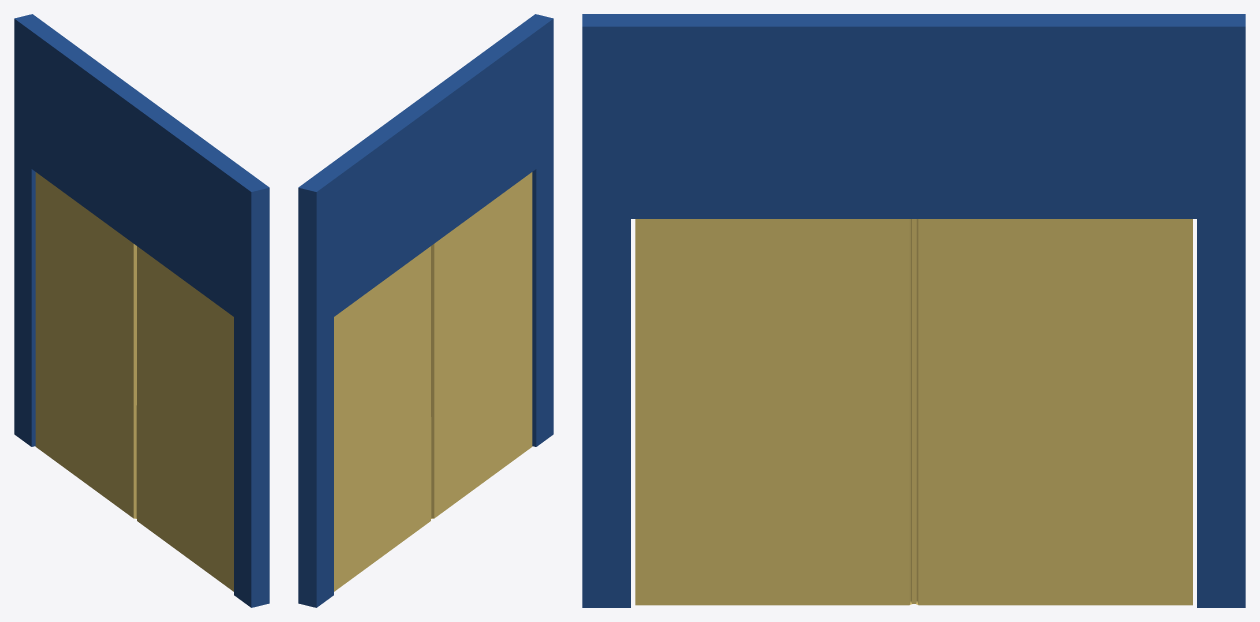
File: LiftDoor.fbx
3 views of the same model, side by side, from view 1: azimuth 30°, elevation 25°; view 2: azimuth 150°, elevation 25°; view 3: azimuth 270°, elevation 25° (orthographic). The views are drawn at different scales.
Visible parts, largest first — view 1: DoorFrame.002; view 2: DoorFrame.002; view 3: DoorFrame.002.
Boxes of the visible parts, left/top/right/bottom form: DoorFrame.002: left=14, top=14, right=269, bottom=607; DoorFrame.002: left=298, top=14, right=553, bottom=607; DoorFrame.002: left=582, top=14, right=1245, bottom=607.
Bounding box in the file's own units: 17.78 × 385 × 398.
